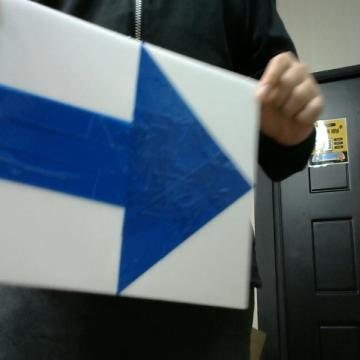blue_right: (0, 47, 250, 292)
